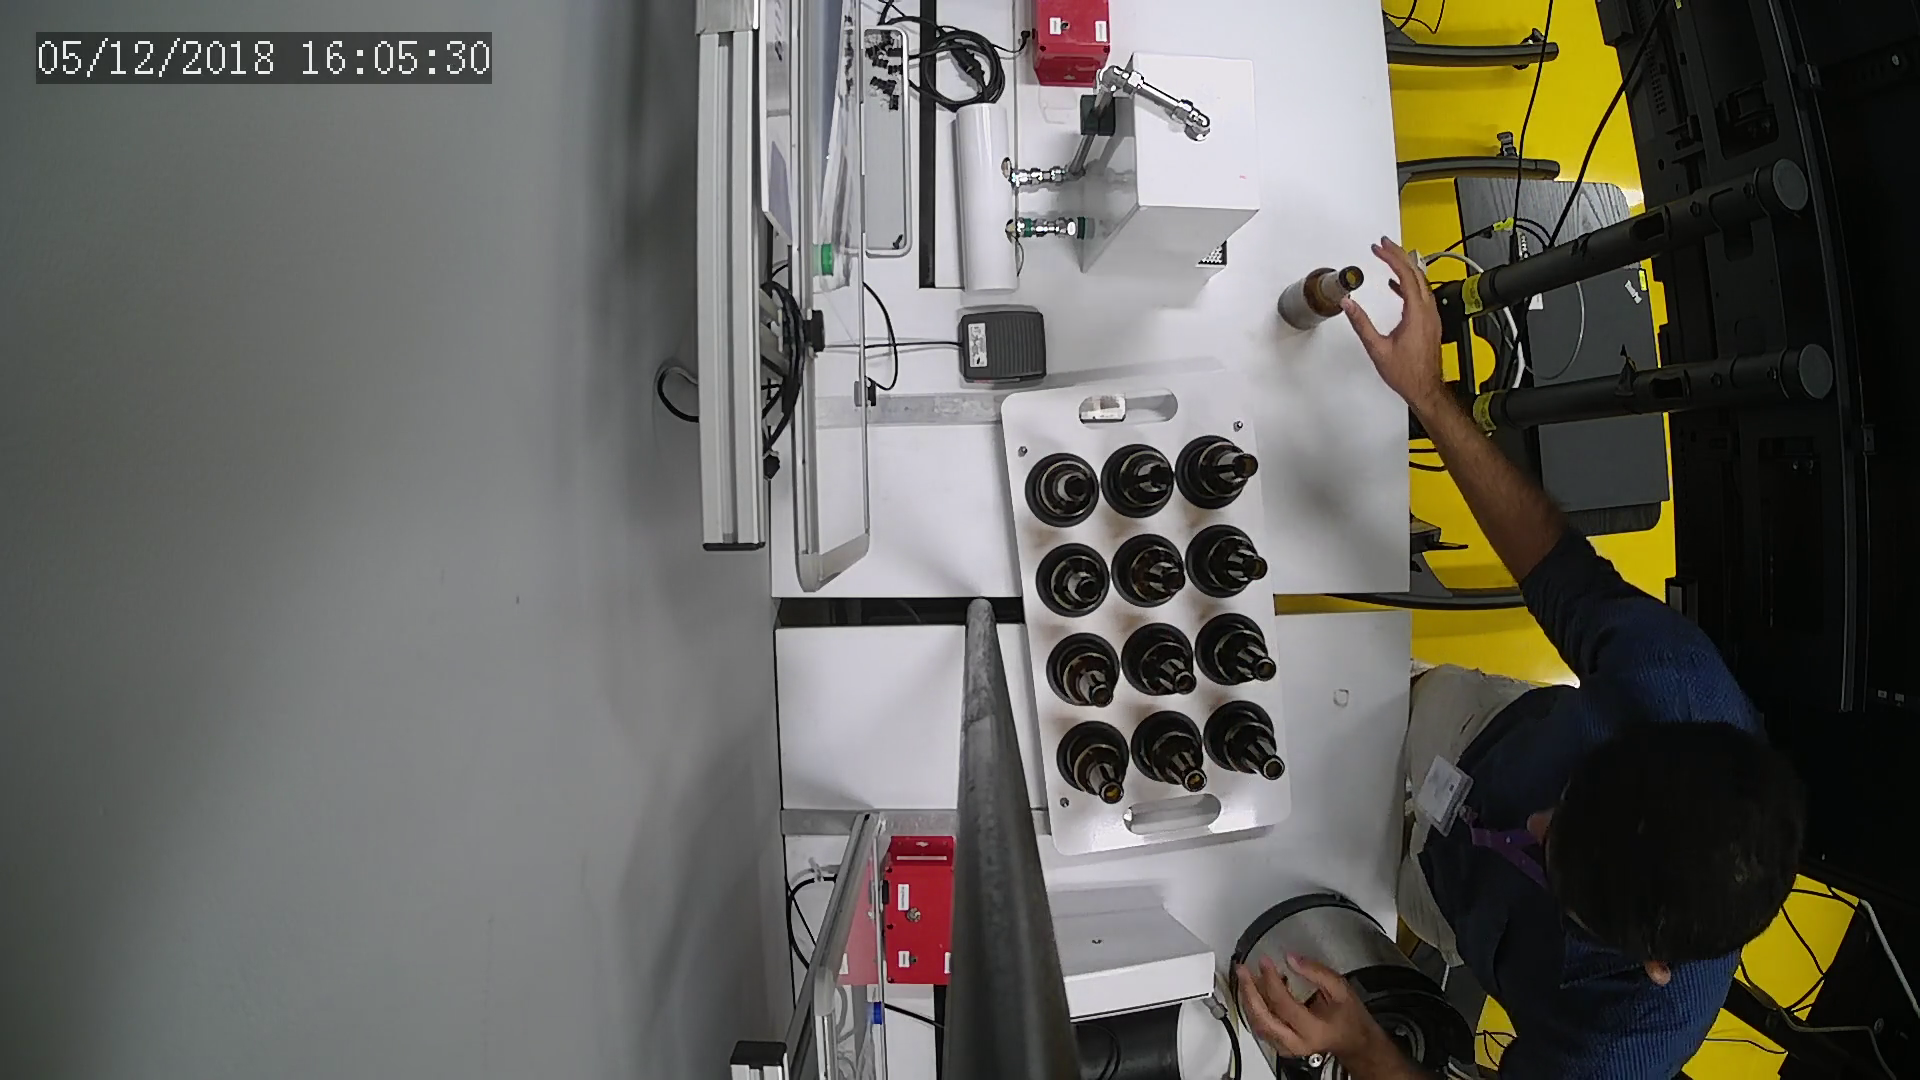filled_bottle: (1203, 695, 1291, 789), (1054, 717, 1135, 815), (1195, 607, 1283, 691), (1131, 707, 1208, 803), (1178, 433, 1266, 513), (1039, 632, 1122, 716), (1120, 620, 1203, 703), (1025, 447, 1101, 535), (1189, 522, 1273, 603), (1035, 543, 1114, 624), (1102, 440, 1176, 522), (1114, 530, 1183, 609)
trolley: (1004, 371, 1305, 855)
unfilled_bottle: (1276, 265, 1375, 332)
